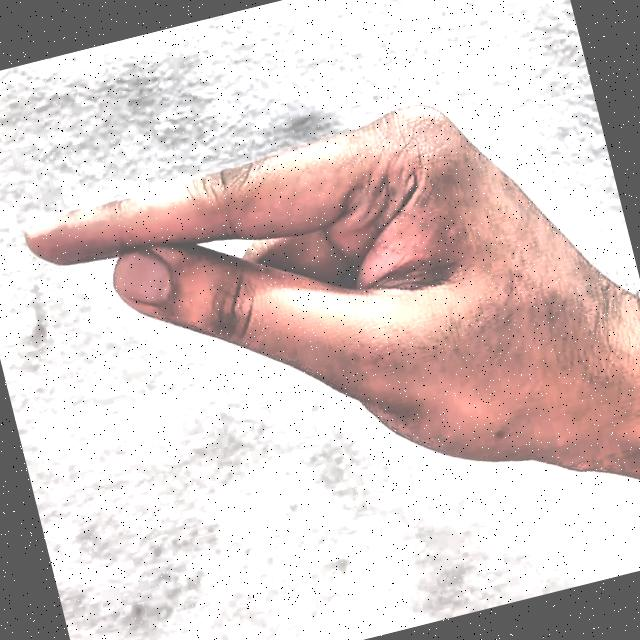Tha: (0, 11, 640, 640)
